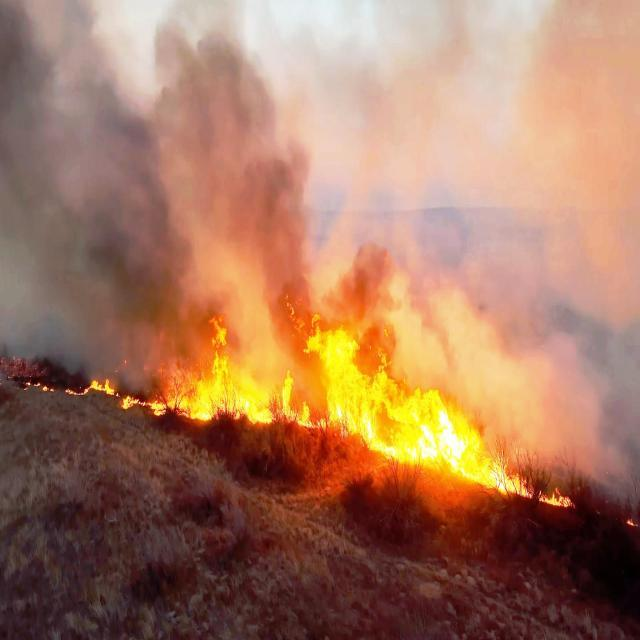Fire: (298, 325, 484, 472), (64, 339, 294, 436), (489, 458, 576, 518), (1, 352, 64, 400)
Smoke: (0, 0, 640, 345), (486, 346, 640, 460)
